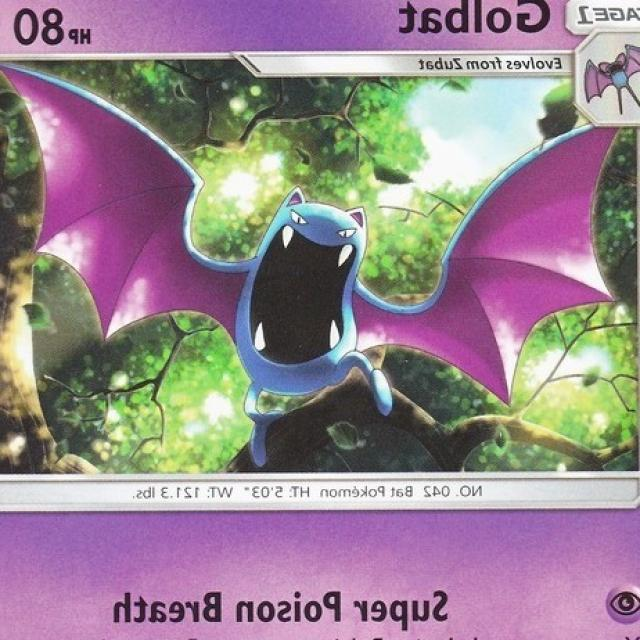Golbat: (95, 181, 506, 436)
